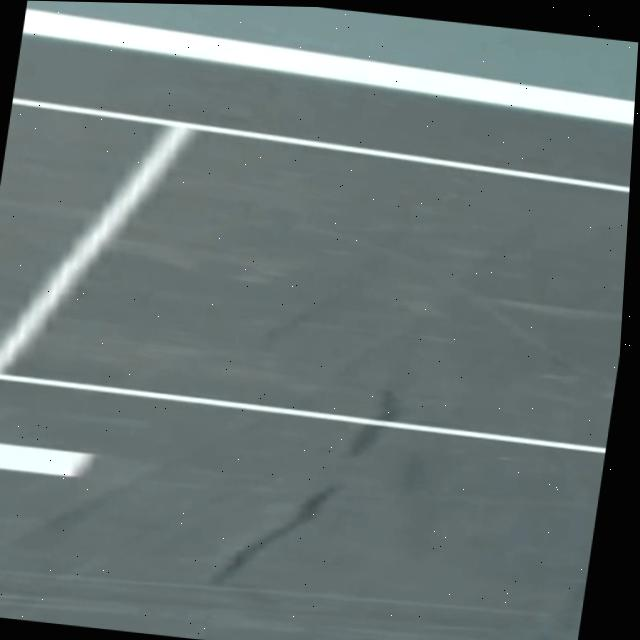center: (0, 442, 95, 475)
left: (22, 7, 635, 123)
